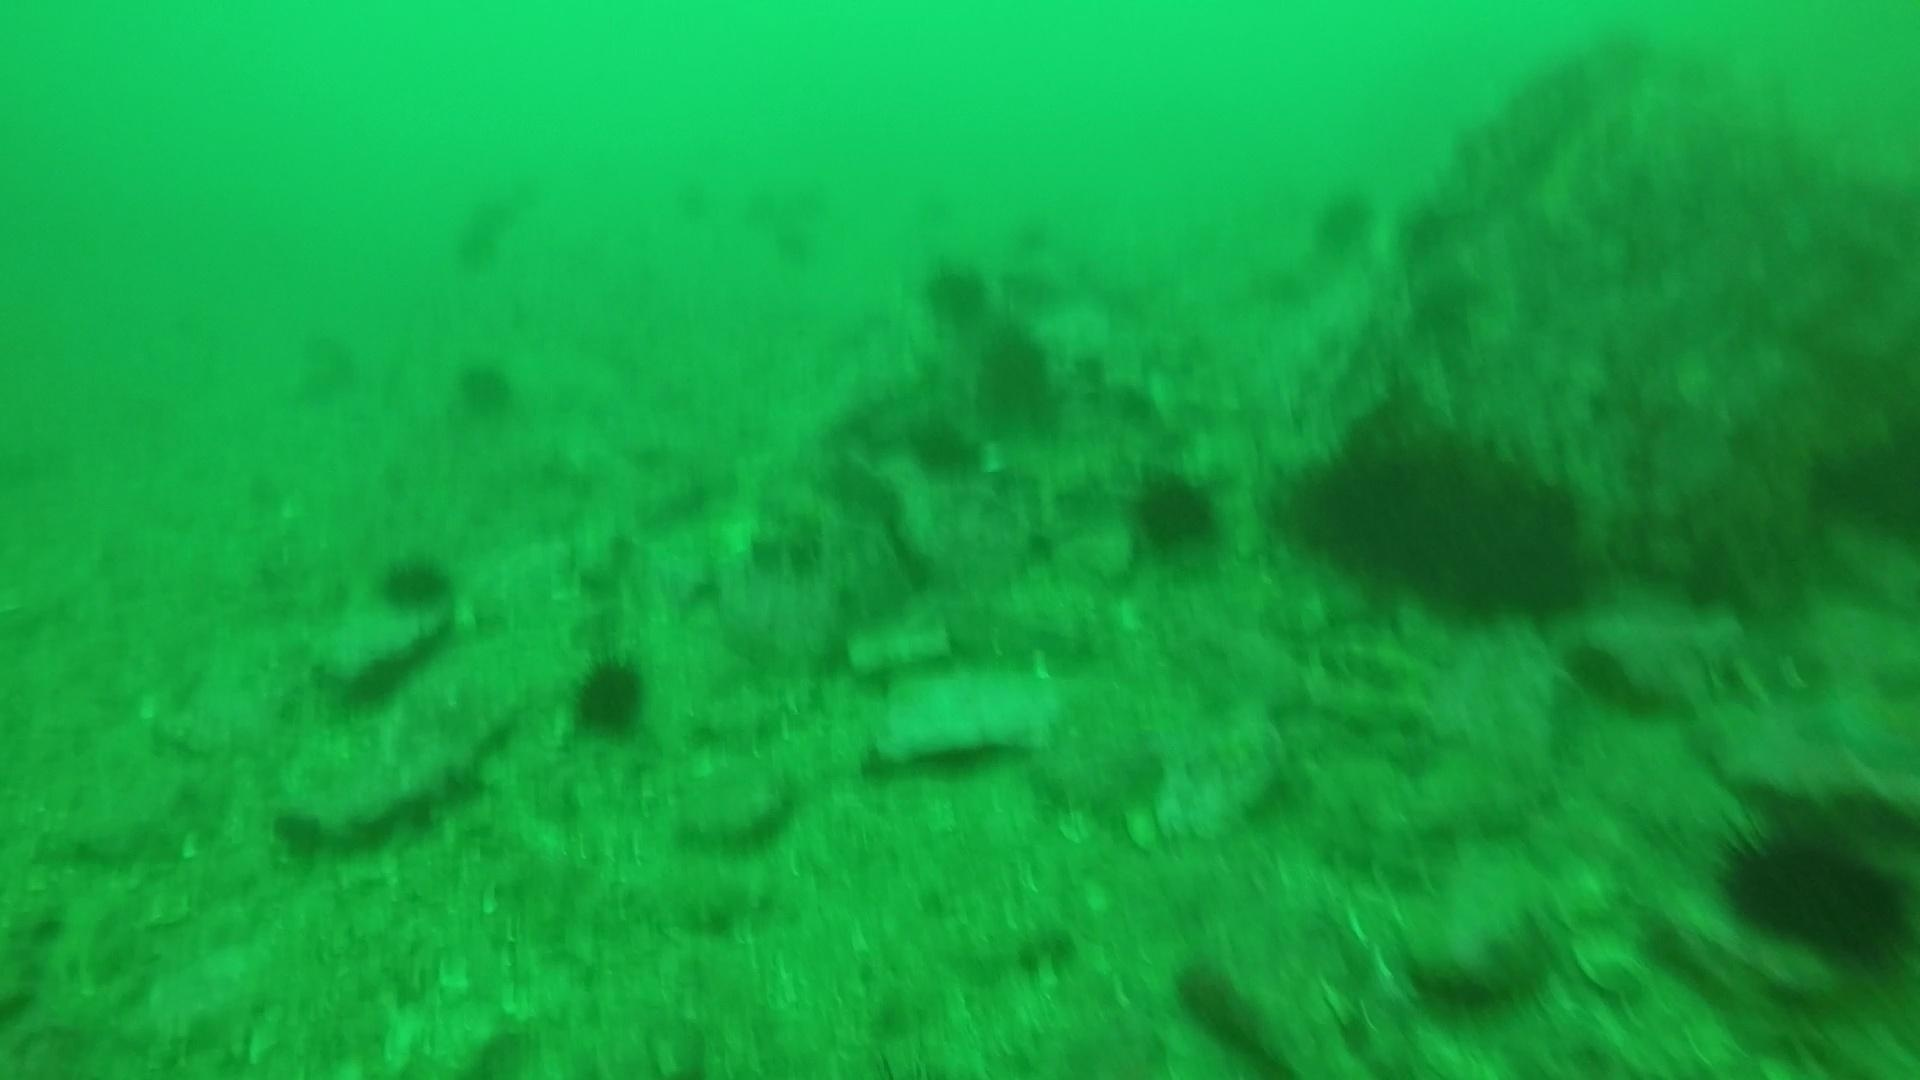echinus: (1710, 806, 1913, 969), (1124, 463, 1226, 559), (971, 326, 1062, 433), (563, 650, 655, 742), (372, 547, 459, 618), (902, 410, 984, 484), (916, 255, 994, 330), (1307, 183, 1379, 257), (448, 353, 522, 421), (447, 227, 500, 273), (736, 196, 786, 243), (775, 229, 822, 273), (471, 196, 514, 227), (789, 195, 823, 228)
holothurian: (1577, 612, 1807, 713), (1304, 676, 1439, 742), (1291, 626, 1435, 687)
